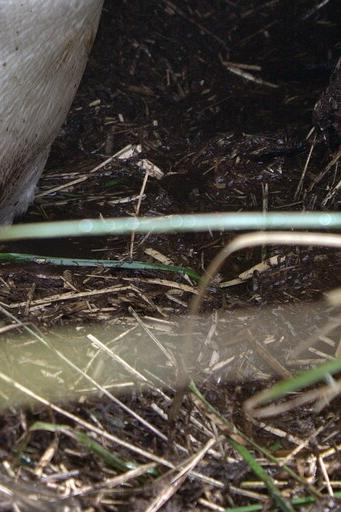Southern Rockhopper Penguin: (0, 0, 157, 282)
